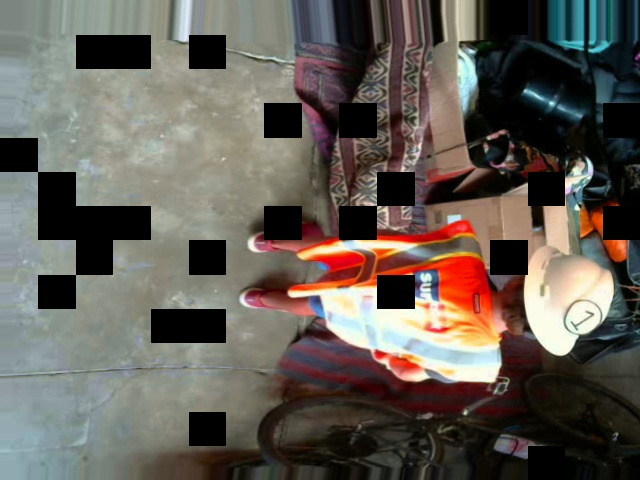one: (564, 299, 603, 335)
